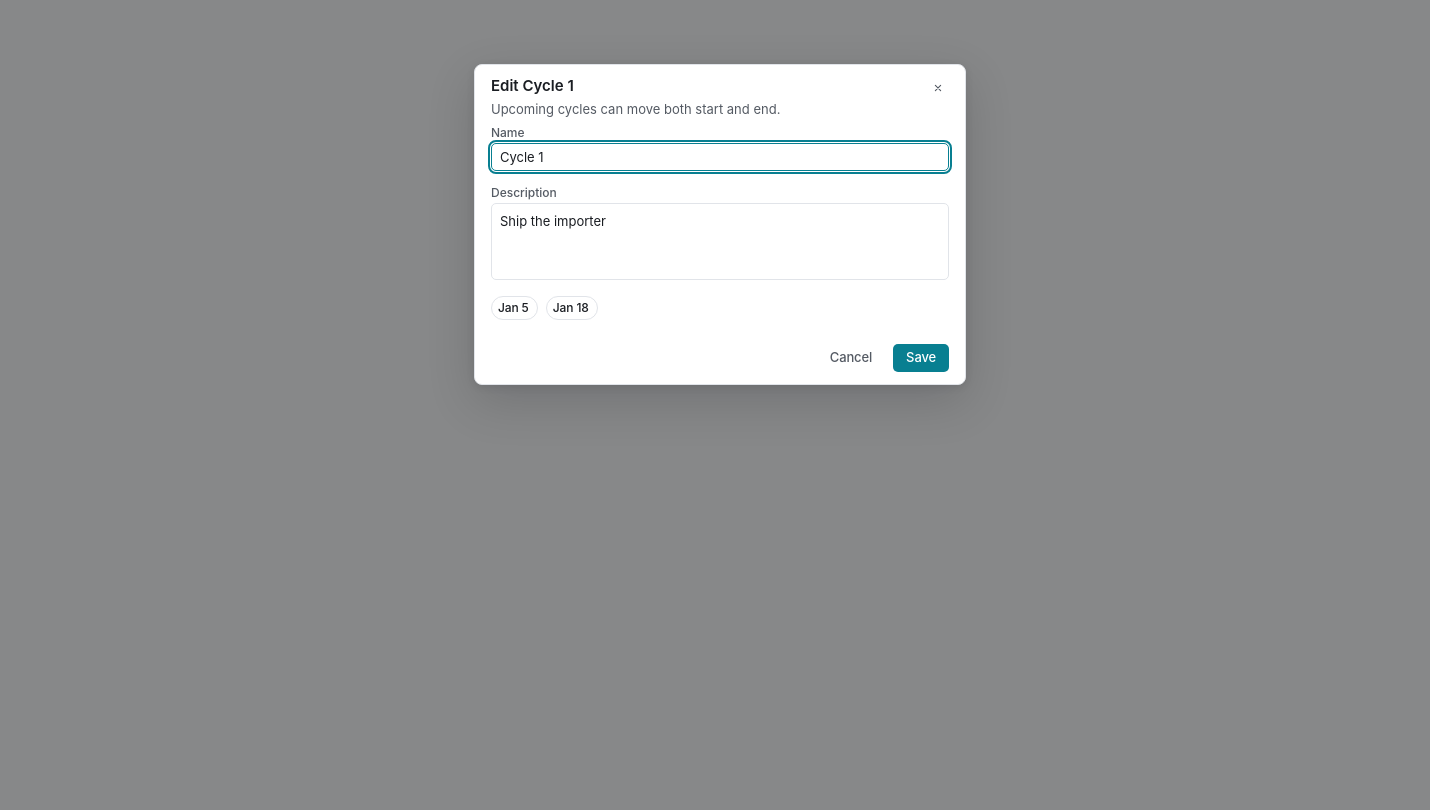
Test: CycleEditModal discard guard › asks instead of closing when a date was moved
The image size is (1440, 810).
Click the button "Jan 18". click: [572, 308]
box: [546, 296, 598, 320]
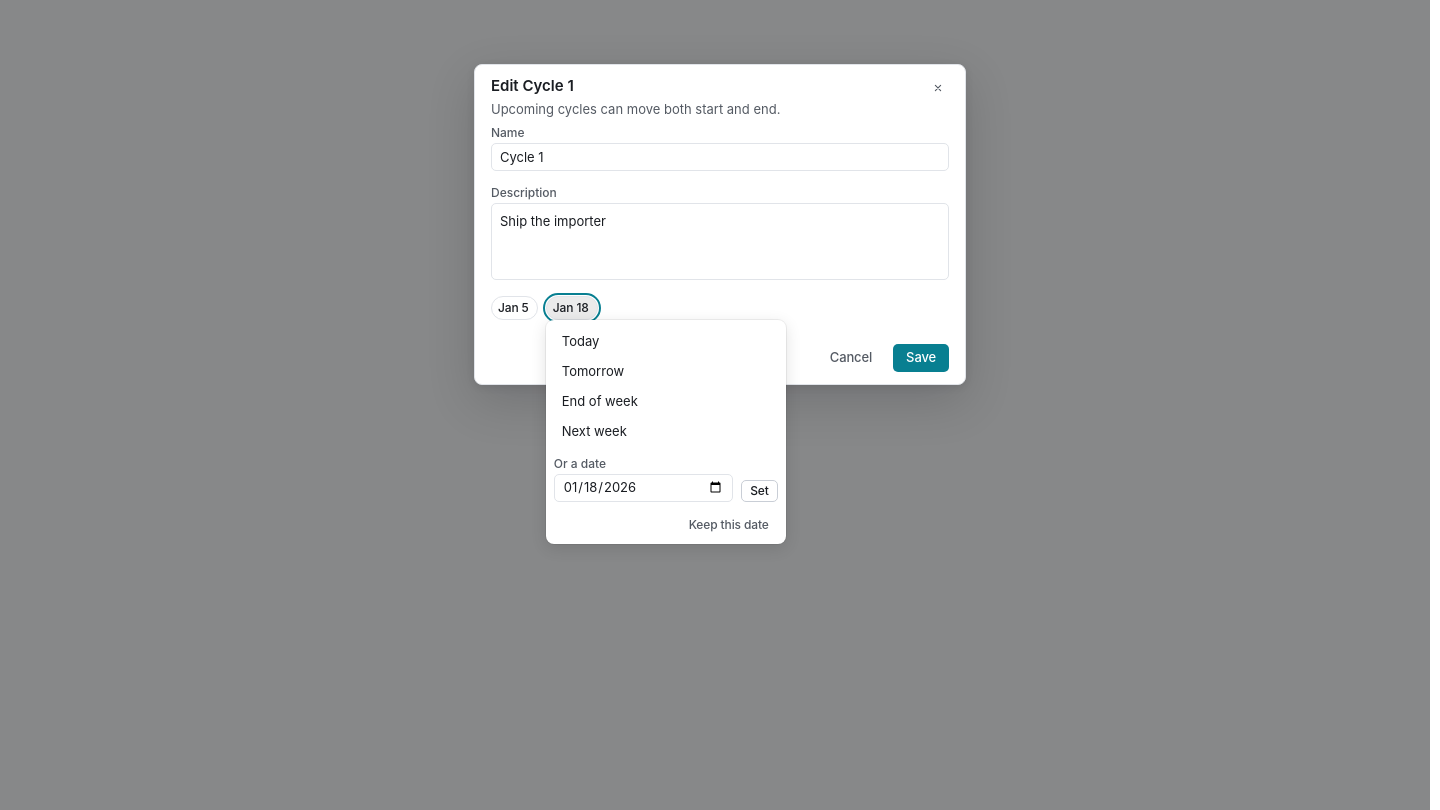
Type "2026-01-20" into the date field labelled "Or a date". click: [644, 488]
box: [563, 475, 724, 501]
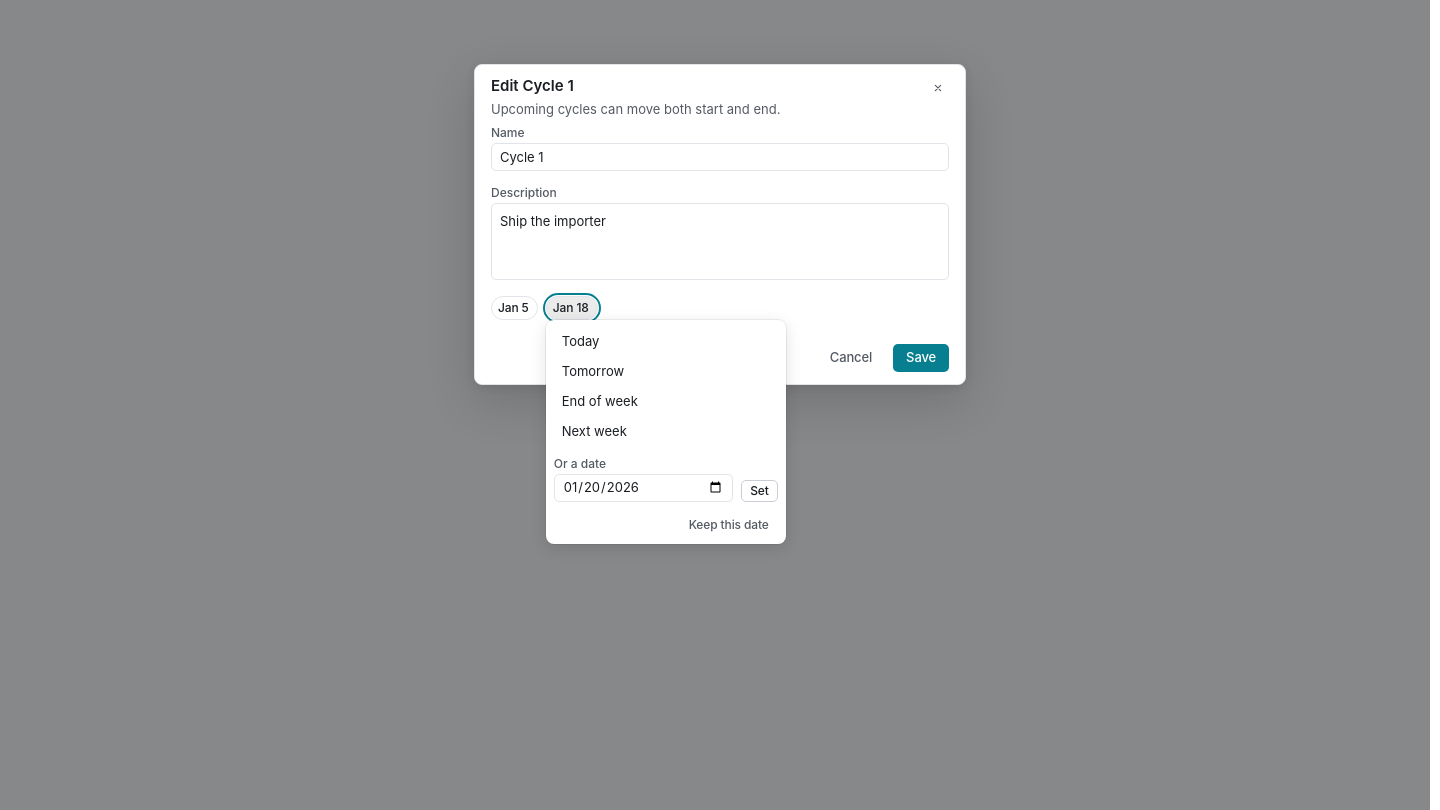
Click the button "Set". click: [759, 491]
box: [741, 480, 778, 502]
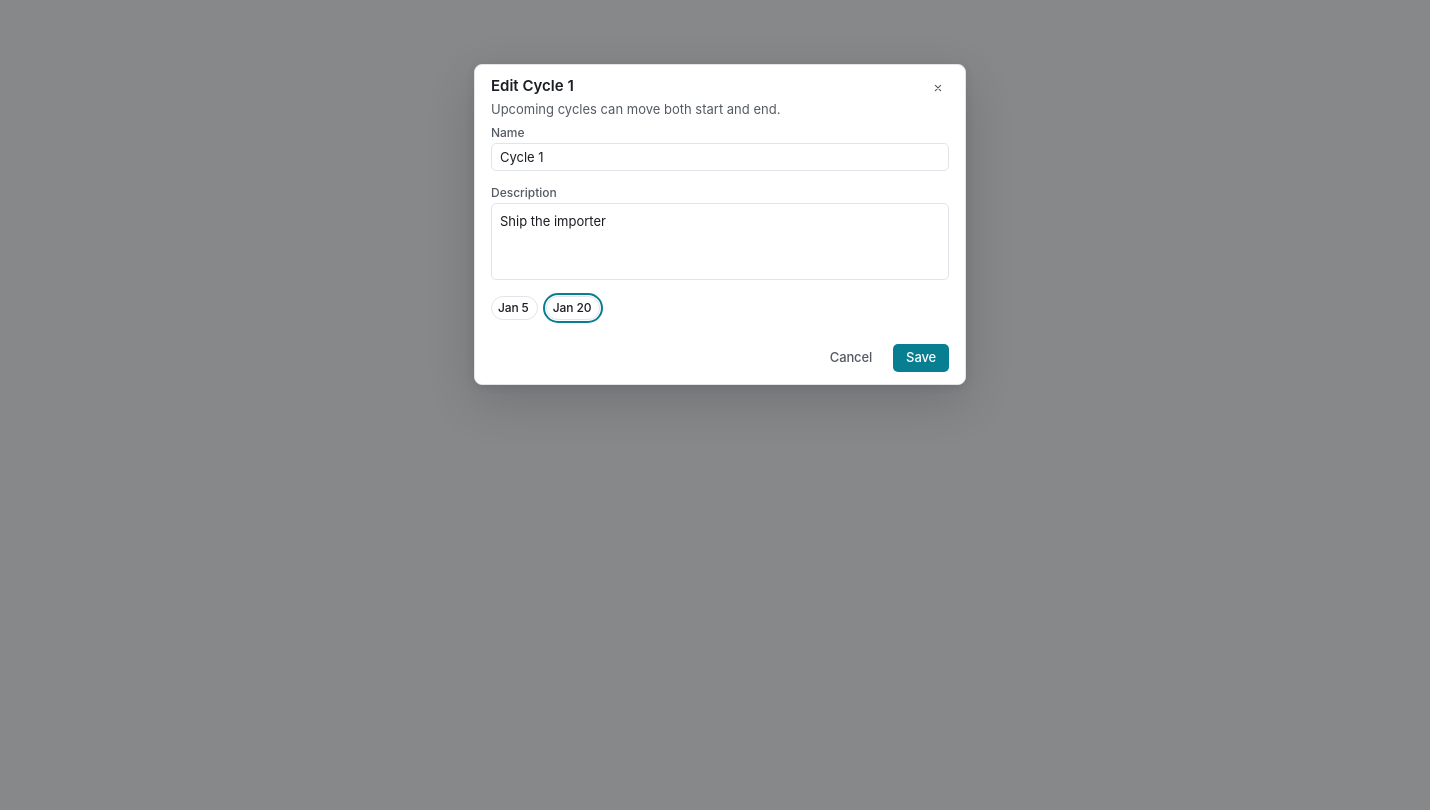
Press Escape
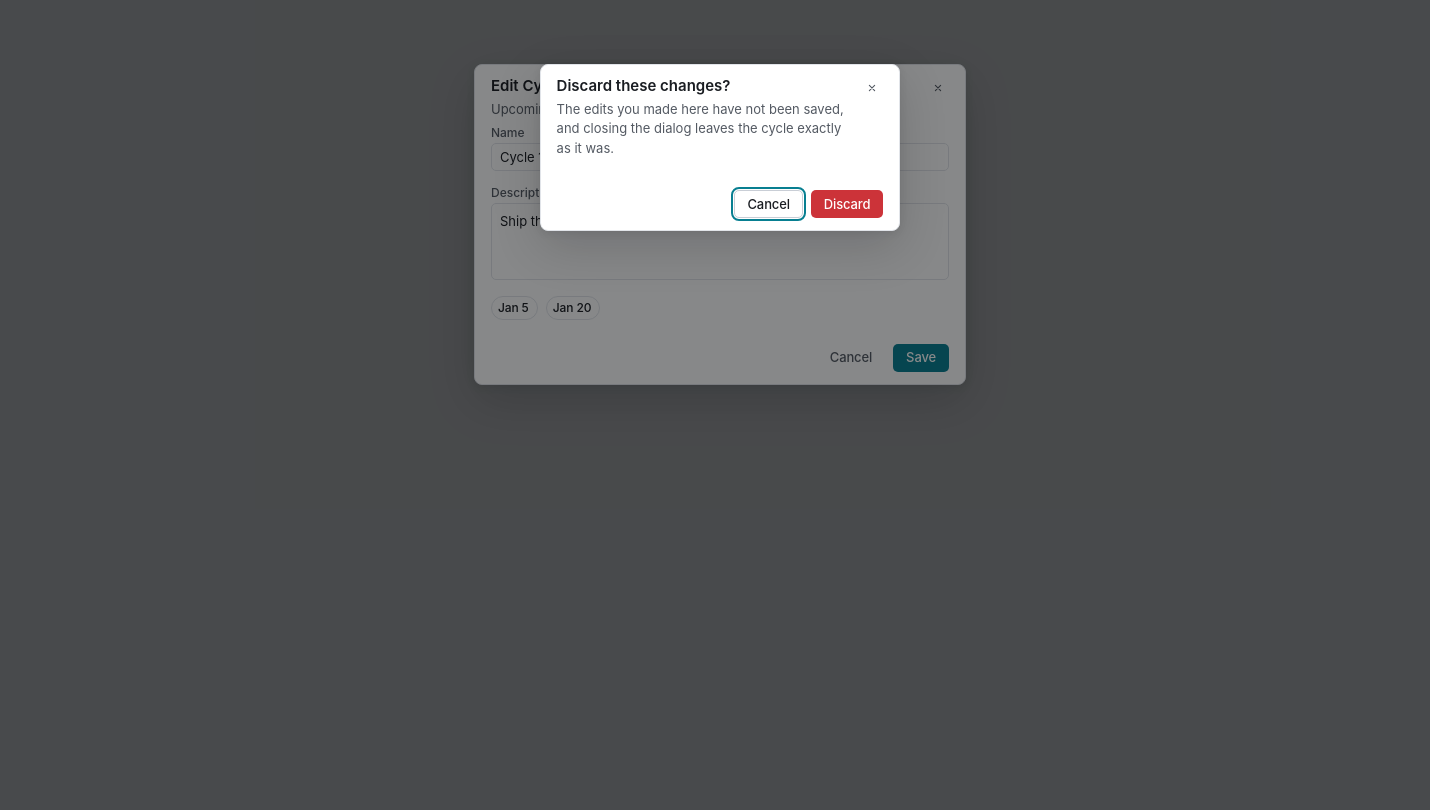
Expected: the dialog "Discard these changes?" is shown, [540, 64, 900, 231]
